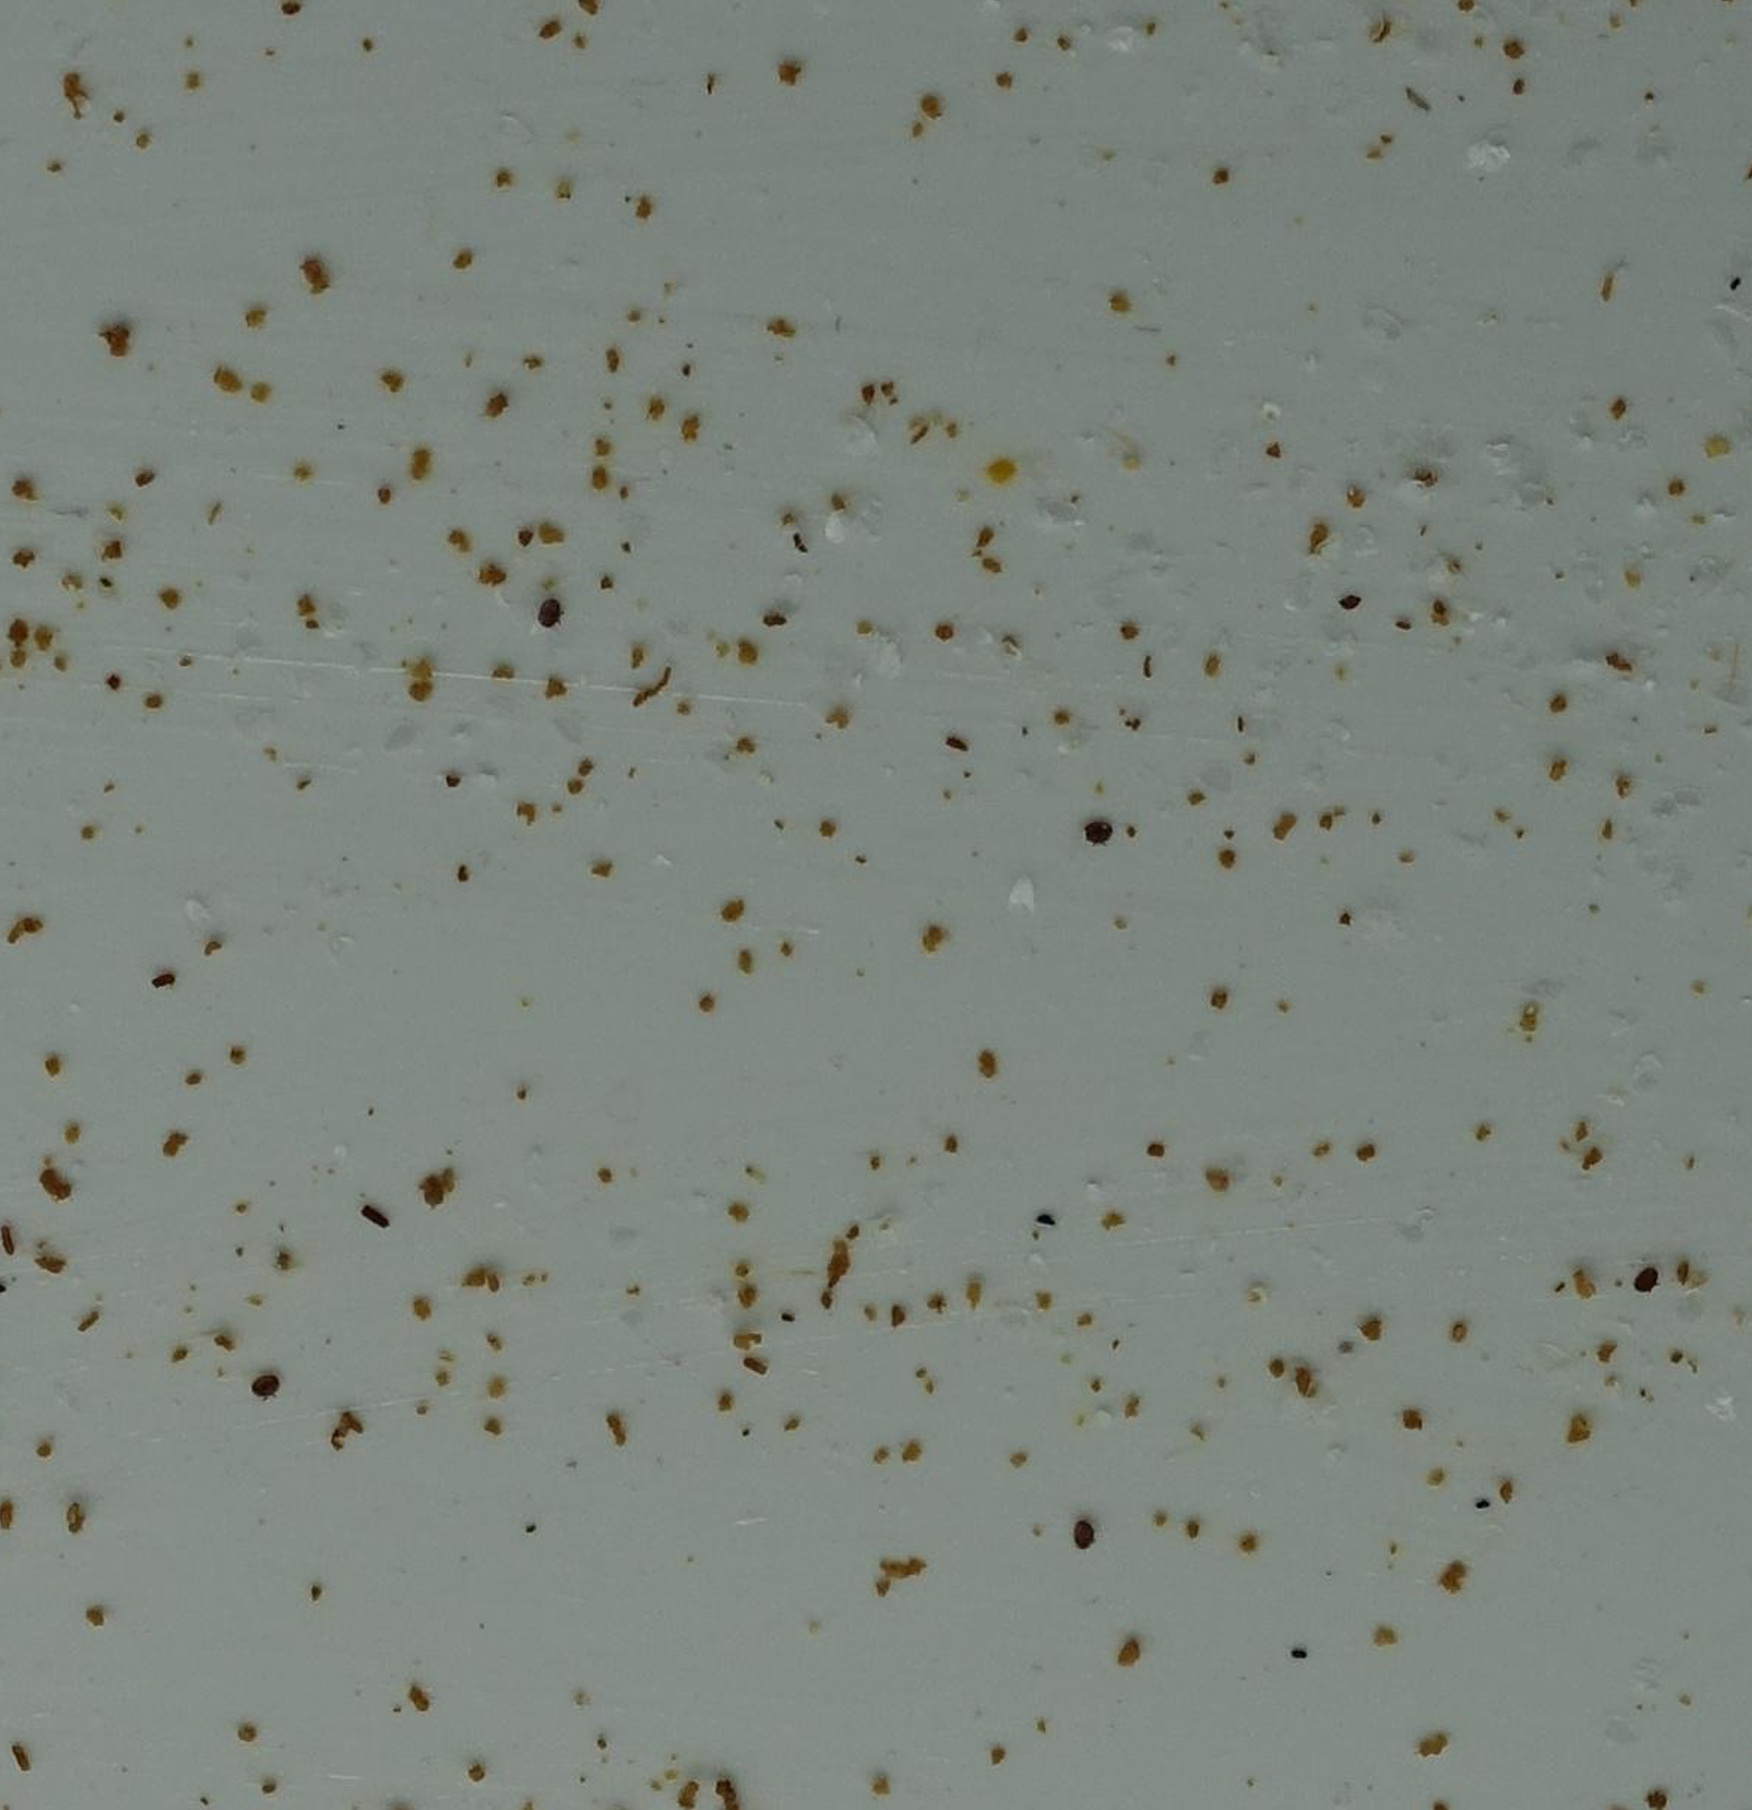Varroa: (1080, 823, 1122, 861), (249, 1370, 280, 1403), (535, 601, 566, 632), (1072, 1522, 1101, 1555), (1631, 1269, 1658, 1298)
